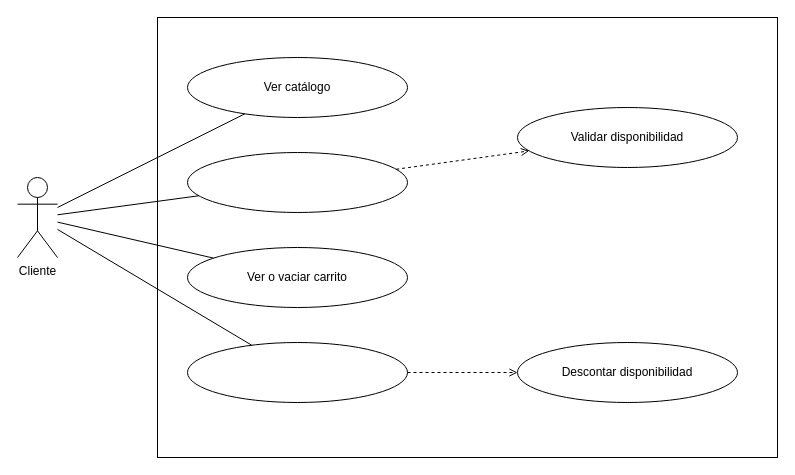
This 795x475 diagram has some shape labels left out. Each missing label, with the box of its shape:
Agregar producto: (186, 152, 408, 212)
Pagar: (186, 342, 408, 402)
